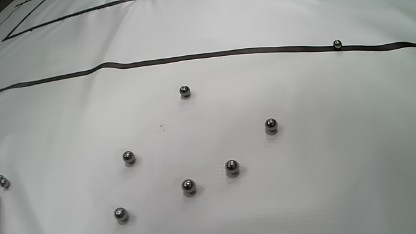ironball: (181, 179, 195, 193), (225, 159, 239, 173), (114, 207, 128, 221), (264, 118, 277, 131), (122, 151, 135, 164), (179, 85, 190, 97), (0, 177, 9, 188), (333, 39, 342, 49), (0, 174, 3, 180)
